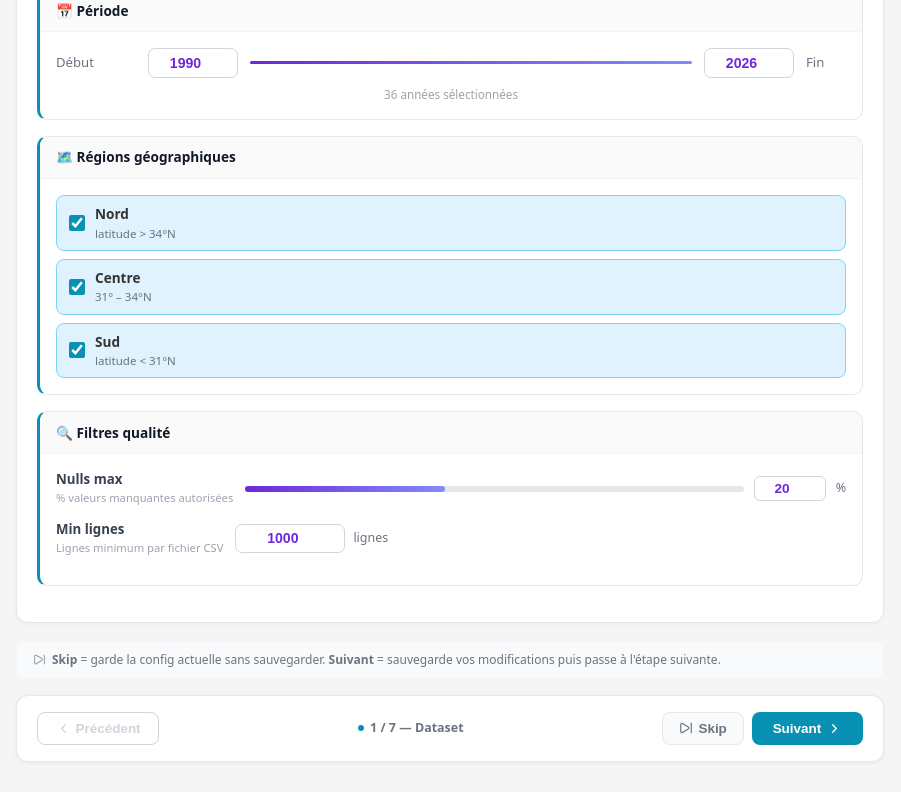
Test case: TEST 4 — OrchestratorWizard : navigation pas-à-pas › démarre à l'étape 1 (Dataset) et avance à l'étape 2 (Validation) via le bouton Suivant
The width and height of the screenshot is (901, 792).
(page scrolled)
Step 1. Click the button "Suivant" → (807, 728), box [752,712,863,745]
(page scrolled)
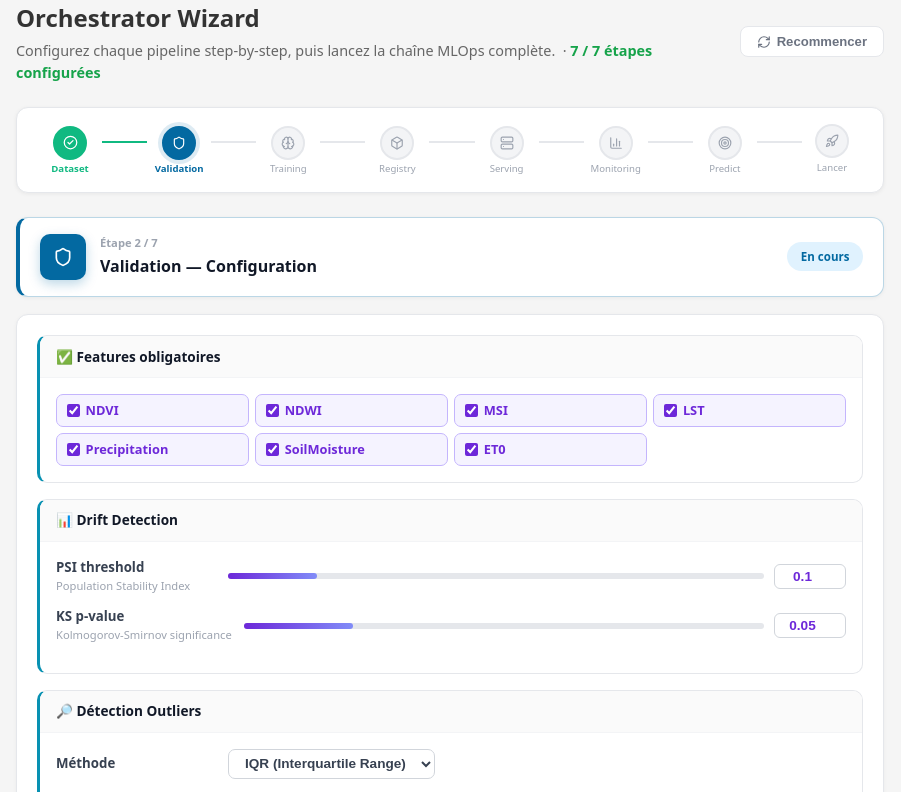
Result: the text "Validation — Configuration" is shown at [100,255,317,277]
Result: the text "Étape 2 / 7" is shown at [100,235,158,250]
